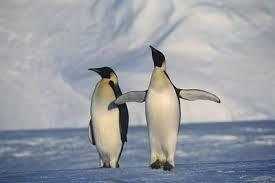emporer: (122, 48, 230, 177), (85, 64, 136, 170)
